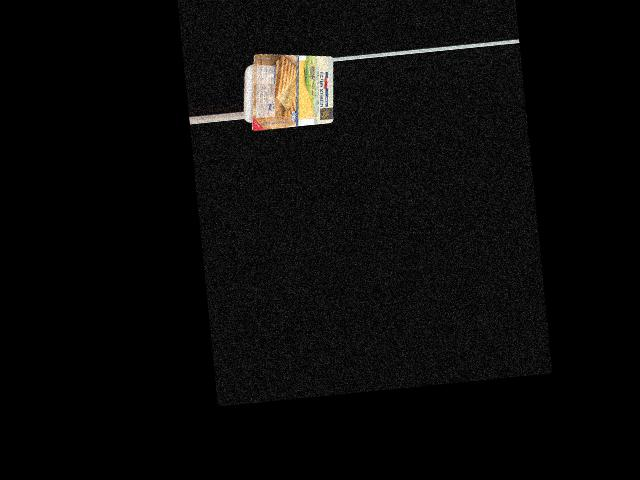cheese: (237, 48, 338, 128)
